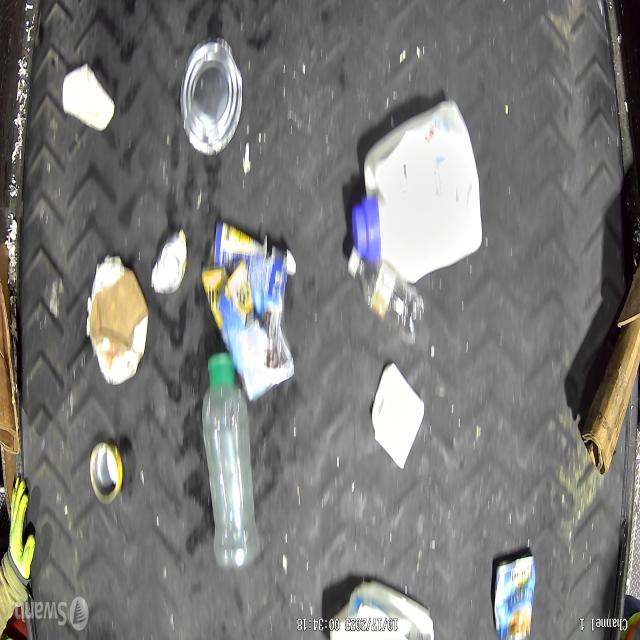can: (494, 553, 536, 640), (86, 439, 122, 505)
milk_jug: (352, 94, 484, 284)
plastic_bottle: (202, 356, 254, 568), (347, 247, 424, 346)
